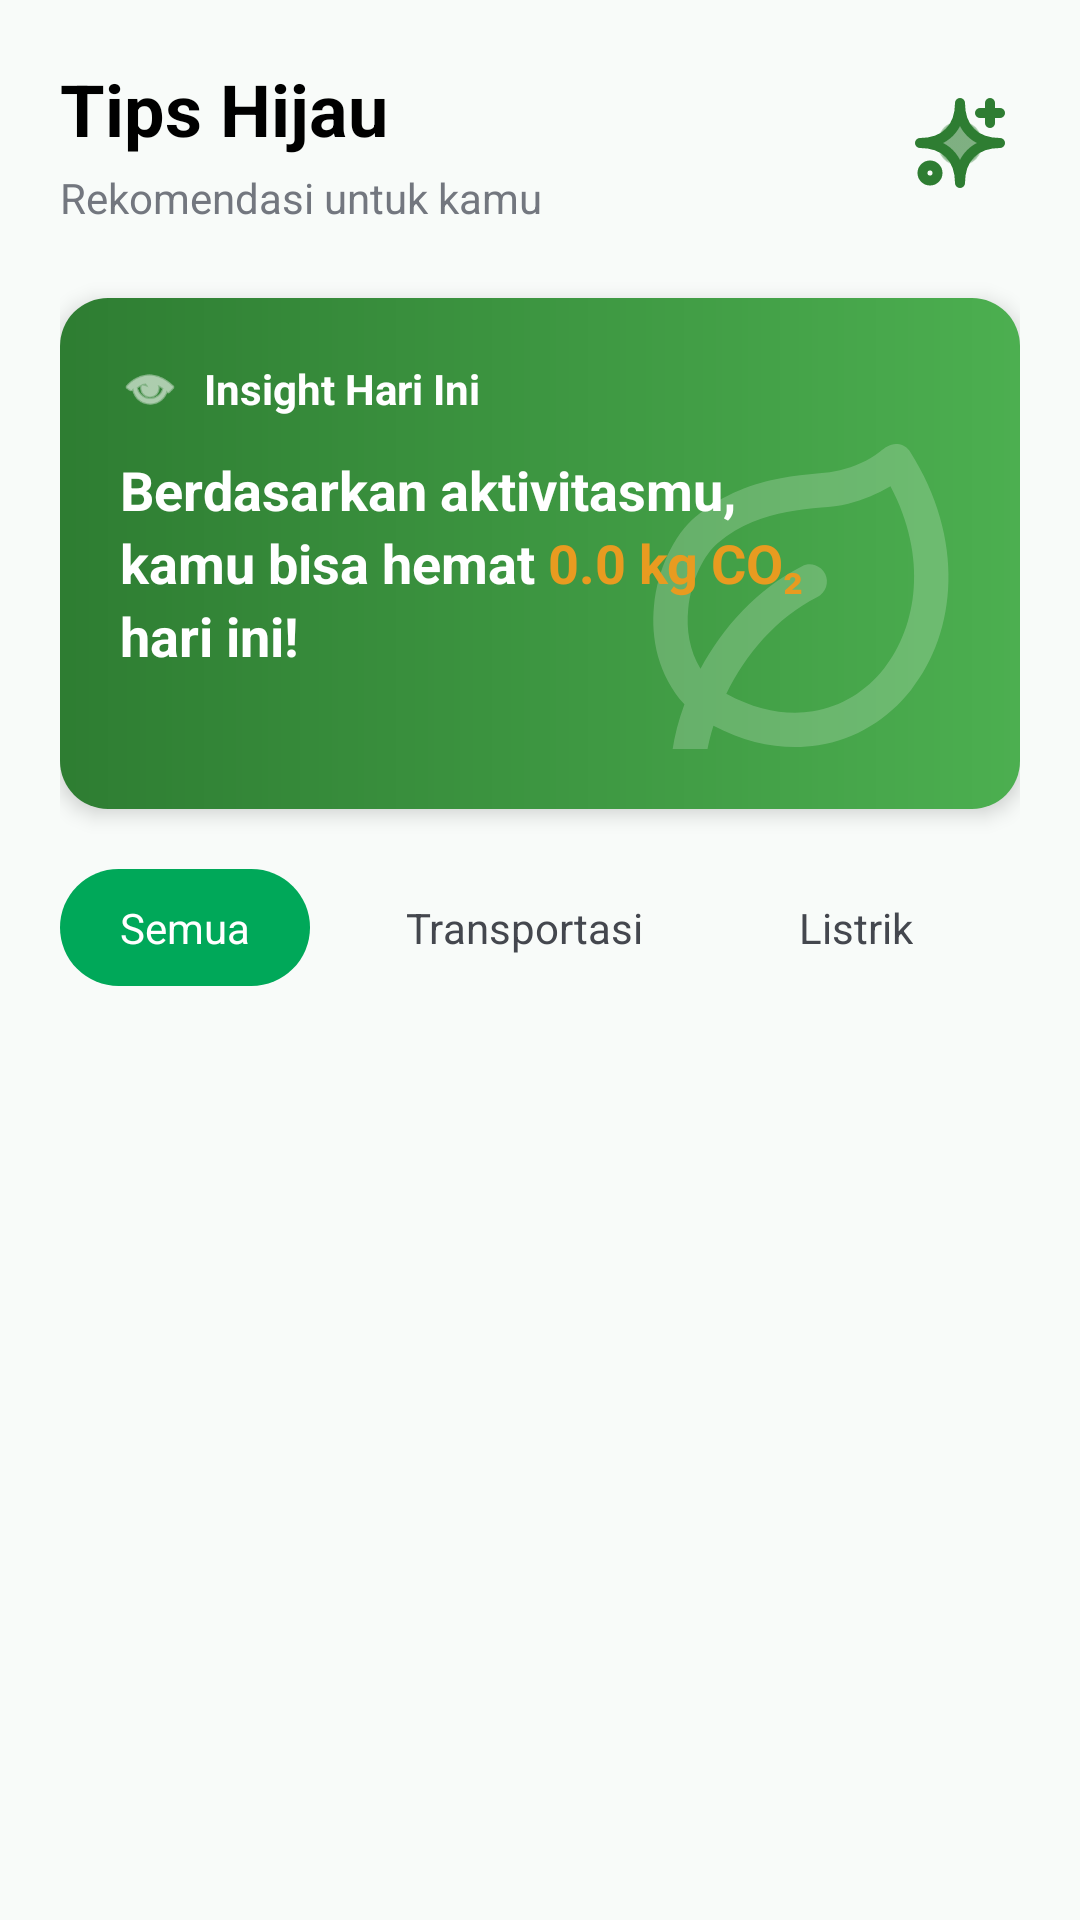

Point at icon controls on the screen. Image size 1080x1920, points as (x=x, y=y).
view: (x=150, y=389)
